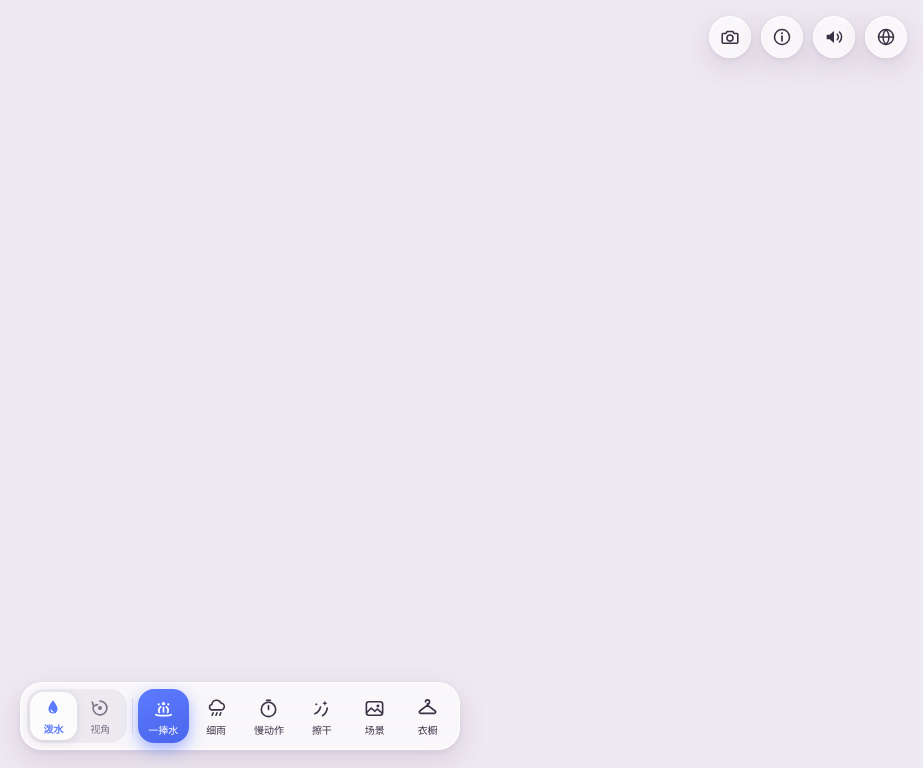
Test: LanguageMenu › switches the whole UI to the picked language, closes and returns focus
The width and height of the screenshot is (923, 768).
Expected: the text "衣橱" is shown, [418,723,438,737]
Click the button with id "langBtn": (886, 37) [865,16,907,58]
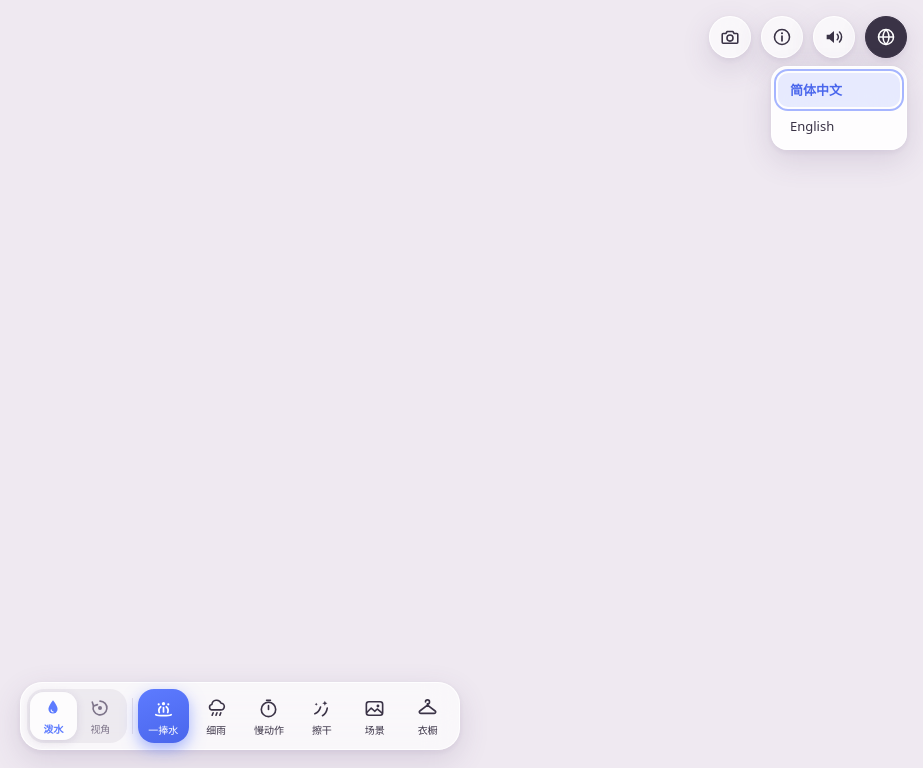
Click the menu item "English": (839, 126) [778,109,900,143]
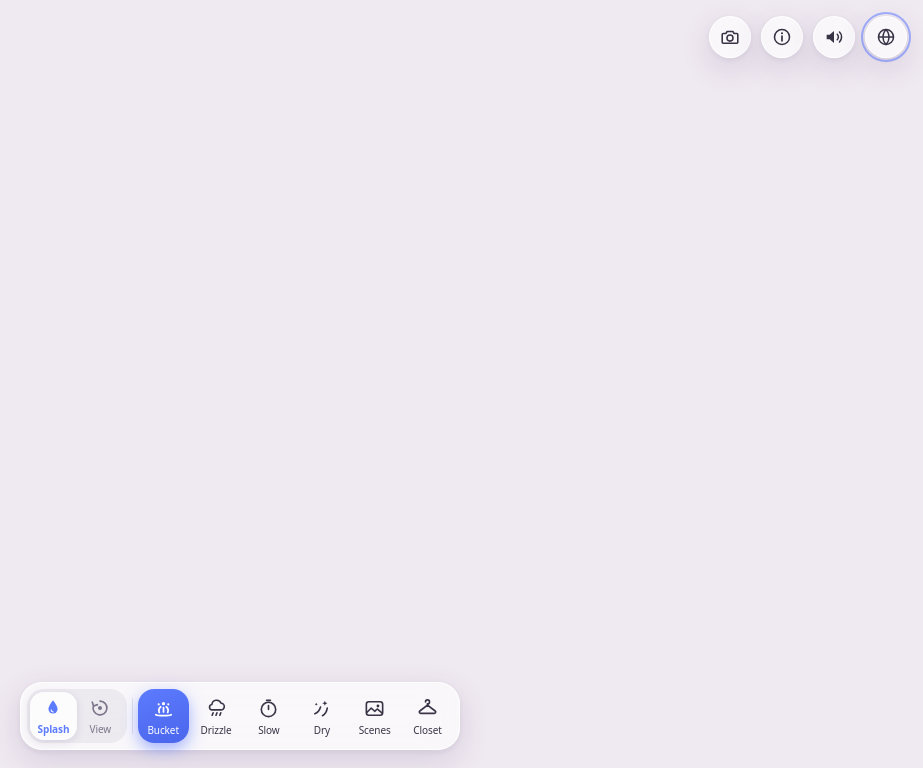
Result: the text "Closet" is shown at [413,723,442,737]
Result: the button "衣橱" is gone
Result: the menu with id "langMenu" is gone
